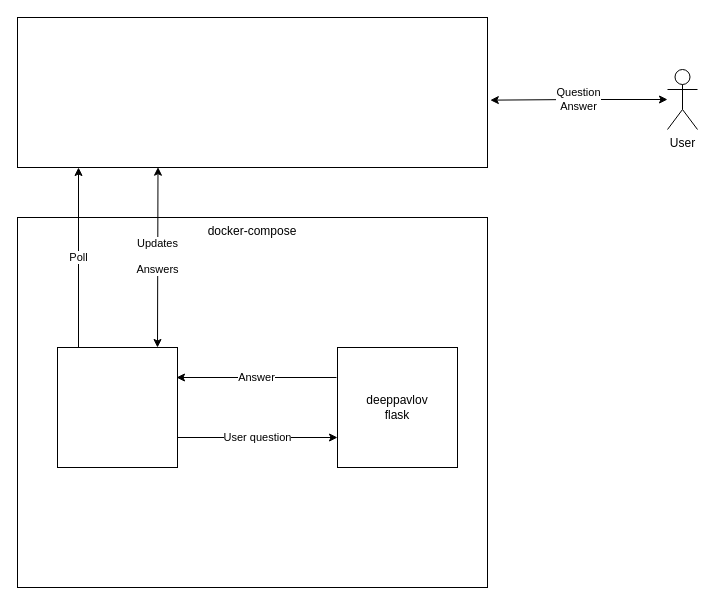
The diagram is 715 pixels wide and 605 high, and some of its shapes have lost their labels. Each missing label, with the centre of its shape:
"Asp.Net" goes at [117,407].
"telegram" goes at [252,92].
